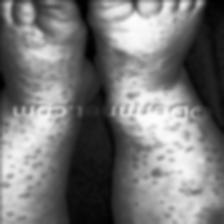Toxin: (3, 30, 80, 94), (105, 42, 176, 75), (20, 149, 58, 178), (142, 165, 184, 178)
